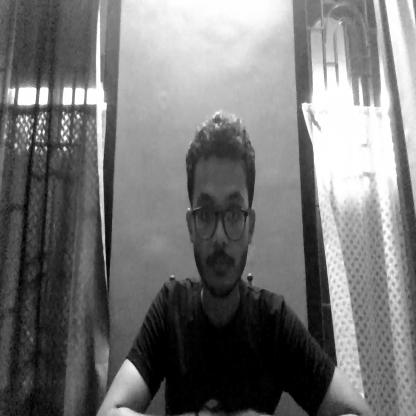Normal: (187, 119, 255, 294)
